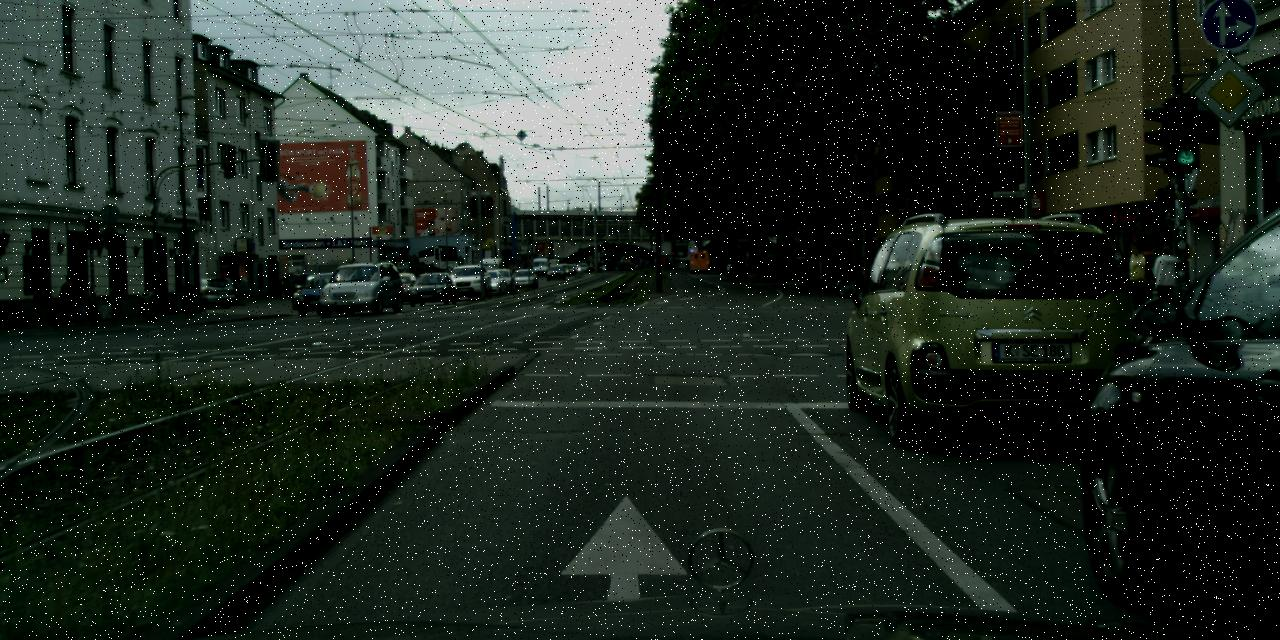ped: (1120, 241, 1151, 319), (1151, 245, 1180, 317), (60, 274, 81, 324)
